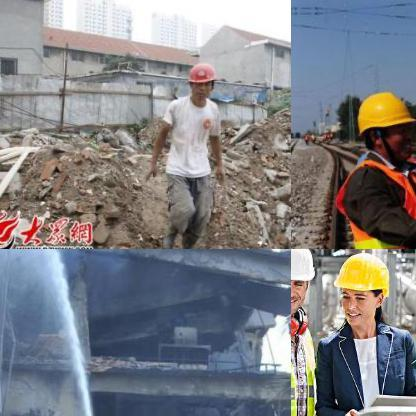Helmet: (326, 249, 395, 331), (354, 84, 415, 159), (291, 249, 324, 314), (185, 58, 217, 100)
